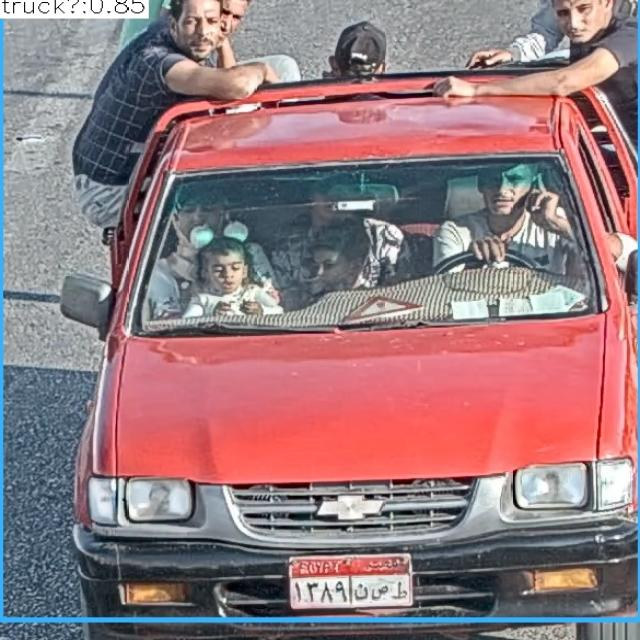windshield: (130, 161, 586, 319)
